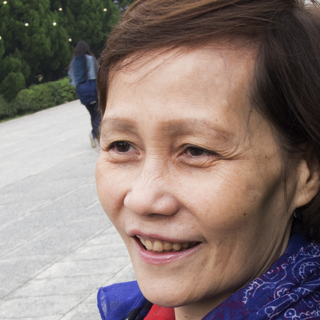eye: (172, 140, 223, 165), (102, 134, 146, 161)
